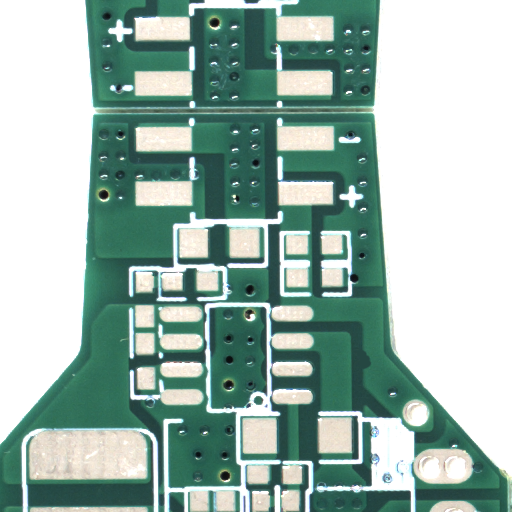Mouse_bite: (365, 361, 376, 382)
